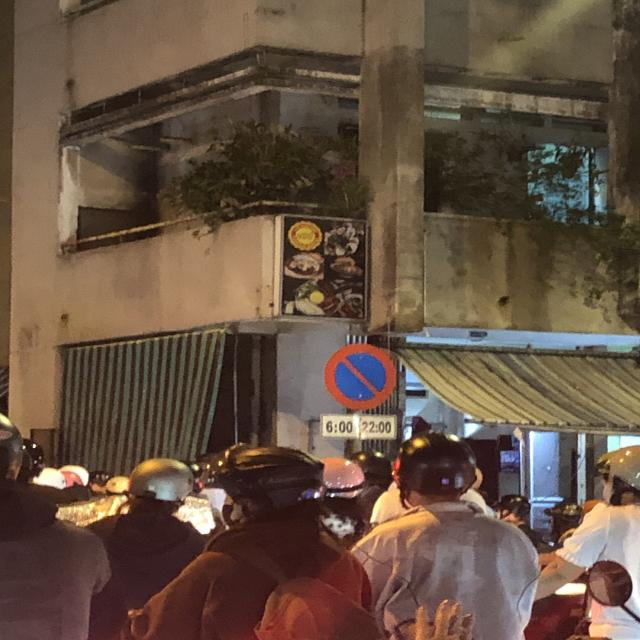Bien bao cam do xe: (318, 337, 404, 412)
